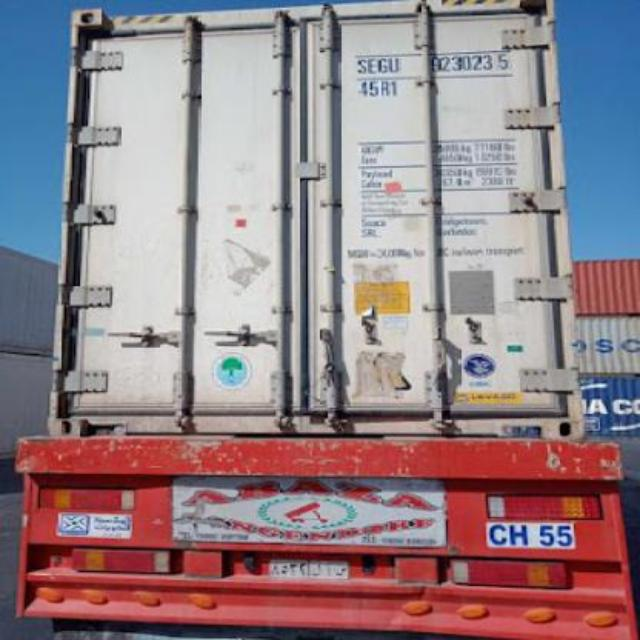0: (462, 55, 472, 71)
2: (472, 56, 482, 74), (442, 56, 452, 72)
3: (480, 54, 492, 70), (454, 56, 460, 72)
5: (494, 54, 508, 70)
9: (430, 56, 442, 72)
E: (366, 59, 379, 75)
G: (376, 57, 389, 75)
S: (356, 59, 366, 75)
U: (390, 55, 400, 75)
